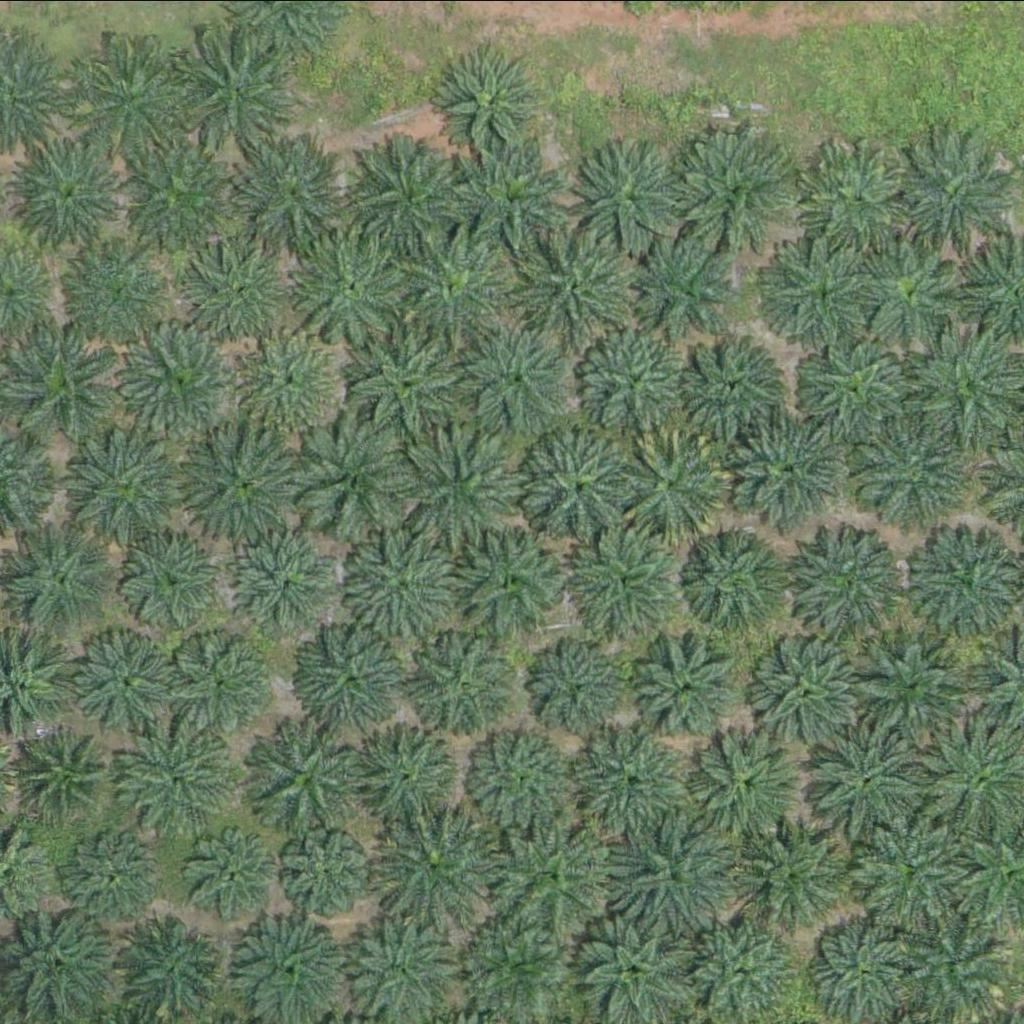Kelapa_Sawit: (1, 327, 127, 452), (122, 124, 248, 249), (78, 34, 204, 159), (171, 32, 297, 157), (349, 135, 475, 260), (570, 129, 696, 254), (666, 130, 792, 255), (518, 228, 644, 353), (390, 221, 516, 346), (293, 229, 419, 354), (350, 324, 476, 449), (522, 426, 648, 551), (401, 432, 527, 557), (297, 408, 423, 533), (180, 419, 306, 544), (449, 517, 575, 642), (619, 815, 745, 940), (373, 800, 499, 925), (758, 229, 884, 354), (794, 322, 920, 447), (796, 135, 922, 260), (786, 517, 912, 642), (854, 414, 980, 539), (726, 409, 852, 534), (896, 131, 1022, 256), (619, 419, 744, 544), (561, 517, 686, 642), (804, 719, 929, 844), (854, 618, 979, 743), (71, 431, 185, 544), (128, 319, 242, 432), (232, 323, 346, 436), (121, 720, 234, 833), (438, 44, 551, 157), (636, 234, 749, 347), (462, 320, 575, 433), (576, 322, 689, 435), (251, 724, 364, 837), (459, 721, 572, 834), (688, 910, 801, 1023), (852, 817, 965, 930), (905, 908, 1018, 1021), (6, 519, 120, 631), (452, 139, 566, 251), (63, 230, 176, 342), (237, 139, 350, 251), (180, 232, 293, 344), (229, 521, 342, 633), (351, 526, 464, 638), (297, 624, 410, 736), (580, 718, 693, 830), (497, 824, 610, 936), (731, 818, 844, 930), (693, 722, 806, 834), (14, 910, 115, 1010), (79, 632, 180, 732), (129, 528, 230, 628), (677, 340, 778, 440), (677, 530, 778, 630), (637, 635, 738, 735), (530, 643, 631, 743), (413, 633, 514, 733), (172, 635, 273, 735), (358, 727, 459, 827), (282, 822, 383, 922), (182, 826, 283, 926), (126, 918, 227, 1018), (464, 921, 565, 1021), (760, 640, 861, 740), (866, 242, 966, 342), (68, 831, 157, 918), (23, 733, 111, 820)
